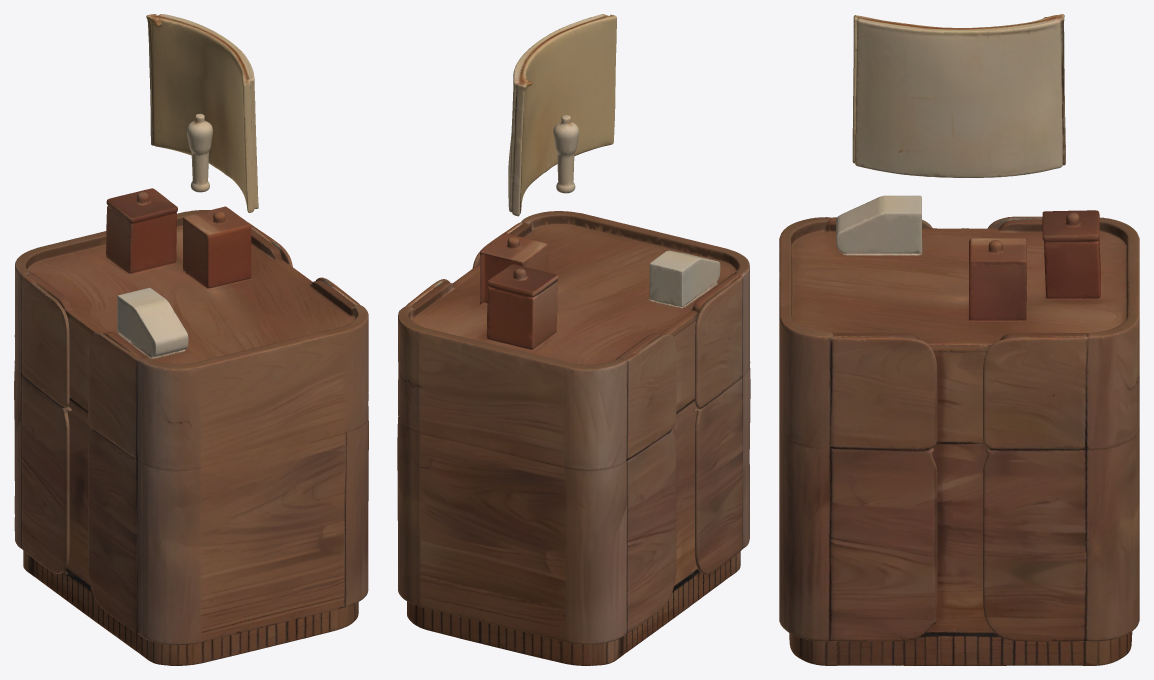
File: c05-stylized.glb
The picture shows the model from 3 angles, left to right: view 1: azimuth 30°, elevation 25°; view 2: azimuth 150°, elevation 25°; view 3: azimuth 270°, elevation 25°; orthographic projection. The views are drawn at different scales.
Visible parts, largest first — view 1: tripo_node_2e4fe4e4-2c3e-4b18-a850-0a615a8f4a62; view 2: tripo_node_2e4fe4e4-2c3e-4b18-a850-0a615a8f4a62; view 3: tripo_node_2e4fe4e4-2c3e-4b18-a850-0a615a8f4a62.
Part boxes in pixels (x1,y1,x2,y2): tripo_node_2e4fe4e4-2c3e-4b18-a850-0a615a8f4a62: [14, 14, 368, 665]; tripo_node_2e4fe4e4-2c3e-4b18-a850-0a615a8f4a62: [397, 14, 750, 665]; tripo_node_2e4fe4e4-2c3e-4b18-a850-0a615a8f4a62: [779, 14, 1139, 665].
Bounding box in the file's own units: 0.44 × 1 × 0.545.
Materials: 1 (1 with a texture image).
